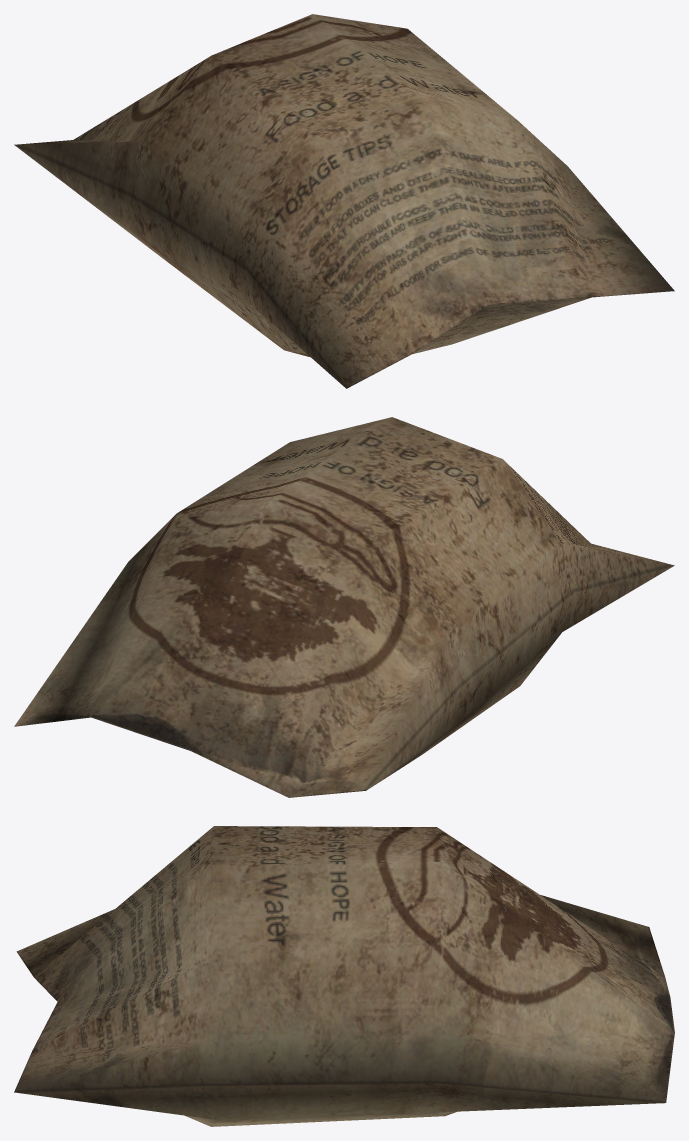
Rendered from p6_pak_food_sack_tan_lod2.glb.
The picture shows the model from 3 angles, top to bottom: view 1: azimuth 30°, elevation 25°; view 2: azimuth 150°, elevation 25°; view 3: azimuth 270°, elevation 25°; orthographic projection. The views are drawn at different scales.
Visible parts, largest first — view 1: surf0; view 2: surf0; view 3: surf0.
Part boxes in pixels (x1,y1,x2,y2): surf0: (14,14,674,388); surf0: (14,417,674,797); surf0: (14,826,674,1126).
Size of the model in its own units: 30.39 by 22.13 by 50.63.
